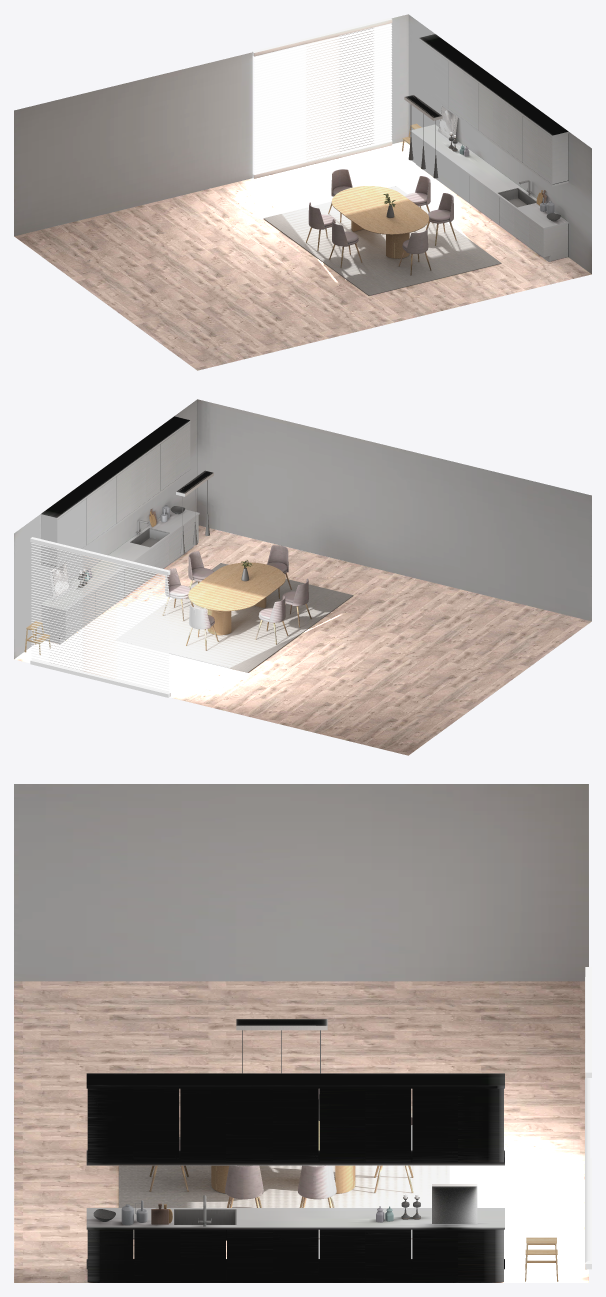
File: centered-room.compressed.glb
3 renders of one model, top to bottom at view 1: azimuth 30°, elevation 25°; view 2: azimuth 150°, elevation 25°; view 3: azimuth 270°, elevation 25°, orthographic. The views are drawn at different scales.
Visible parts, largest first — view 1: floor_floor_0, house_Material.009_0, window_Material.016_0, cabinet_Material.015_0, carpet_Carpet _0, table_Material5.001_0, seat_Leather_0, faucet_Material.006_0; view 2: house_Material.009_0, floor_floor_0, cabinet_Material.015_0, window_Material.016_0, carpet_Carpet _0, table_Material5.001_0, seat_Leather_0, painting_Material.010_0, faucet_Material.006_0; view 3: house_Material.009_0, floor_floor_0, cabinet_Material.015_0, carpet_Carpet _0, seat_Leather_0, window_Material.016_0, painting_Material.010_0, lighting_Material.014_0, faucet_Material.006_0, table_Material5.001_0, IKEA seat_wood _0.
Boxes of the visible parts, box(x1,y1,x2,y2) form: floor_floor_0: box(14, 141, 591, 370); house_Material.009_0: box(14, 14, 591, 273); window_Material.016_0: box(252, 18, 392, 178); cabinet_Material.015_0: box(410, 34, 568, 261); carpet_Carpet _0: box(263, 186, 501, 295); table_Material5.001_0: box(331, 186, 429, 258); seat_Leather_0: box(306, 169, 456, 275); faucet_Material.006_0: box(498, 180, 536, 207); house_Material.009_0: box(14, 399, 591, 658); floor_floor_0: box(14, 525, 591, 755); cabinet_Material.015_0: box(41, 416, 199, 644); window_Material.016_0: box(30, 537, 170, 697); carpet_Carpet _0: box(116, 563, 353, 672); table_Material5.001_0: box(188, 562, 285, 635); seat_Leather_0: box(162, 545, 311, 650); painting_Material.010_0: box(50, 562, 69, 598); faucet_Material.006_0: box(130, 520, 169, 547); house_Material.009_0: box(14, 784, 588, 981); floor_floor_0: box(14, 981, 588, 1282); cabinet_Material.015_0: box(86, 1073, 504, 1281); carpet_Carpet _0: box(119, 1137, 449, 1238); seat_Leather_0: box(149, 1088, 413, 1207); window_Material.016_0: box(585, 967, 591, 1269); painting_Material.010_0: box(432, 1184, 477, 1223); lighting_Material.014_0: box(236, 1019, 327, 1030); faucet_Material.006_0: box(174, 1195, 236, 1226); table_Material5.001_0: box(211, 1121, 355, 1193); IKEA seat_wood _0: box(525, 1237, 558, 1281).
Bounding box in the file's own units: 9.84 × 3 × 7.97.
Materials: 26 (24 with a texture image).
